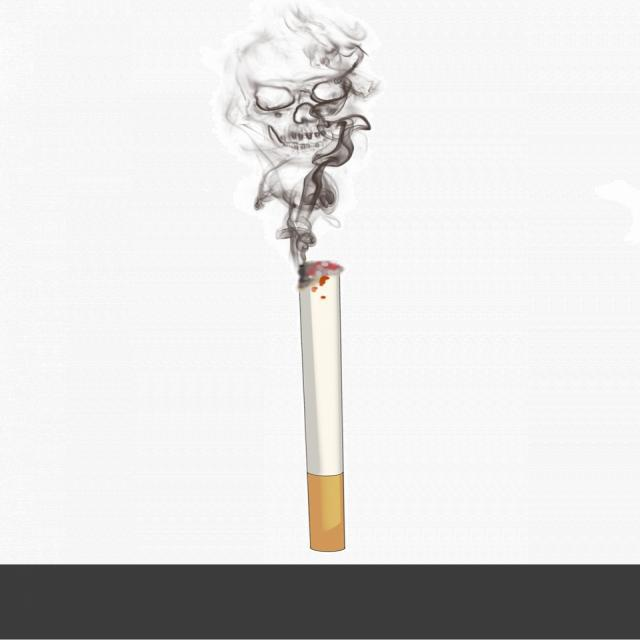cigarette: (290, 256, 358, 556)
